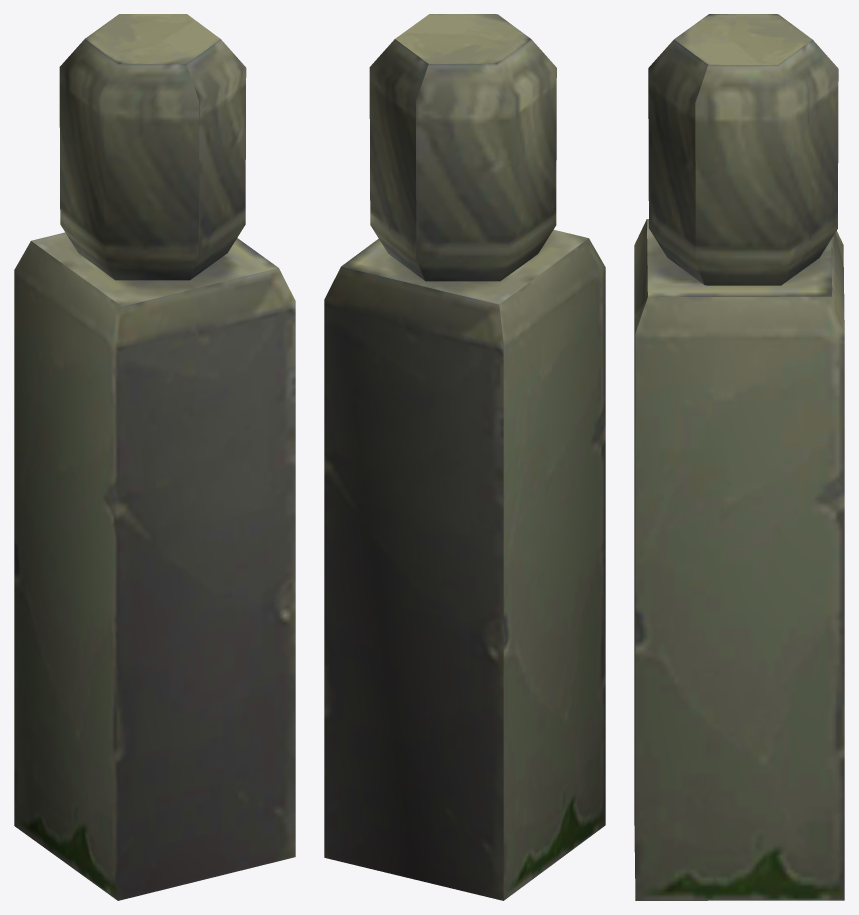
Rendered from langan_02.FBX.
The picture shows the model from 3 angles, left to right: view 1: azimuth 30°, elevation 25°; view 2: azimuth 150°, elevation 25°; view 3: azimuth 270°, elevation 25°; orthographic projection.
Parts seen in each view (by area): view 1: langan_02; view 2: langan_02; view 3: langan_02.
Boxes of the visible parts, box(x1,y1,x2,y2) form: langan_02: box(14, 14, 295, 900); langan_02: box(324, 14, 605, 900); langan_02: box(634, 14, 844, 900).
Bounding box in the file's own units: 9.04 × 38.66 × 9.02.
